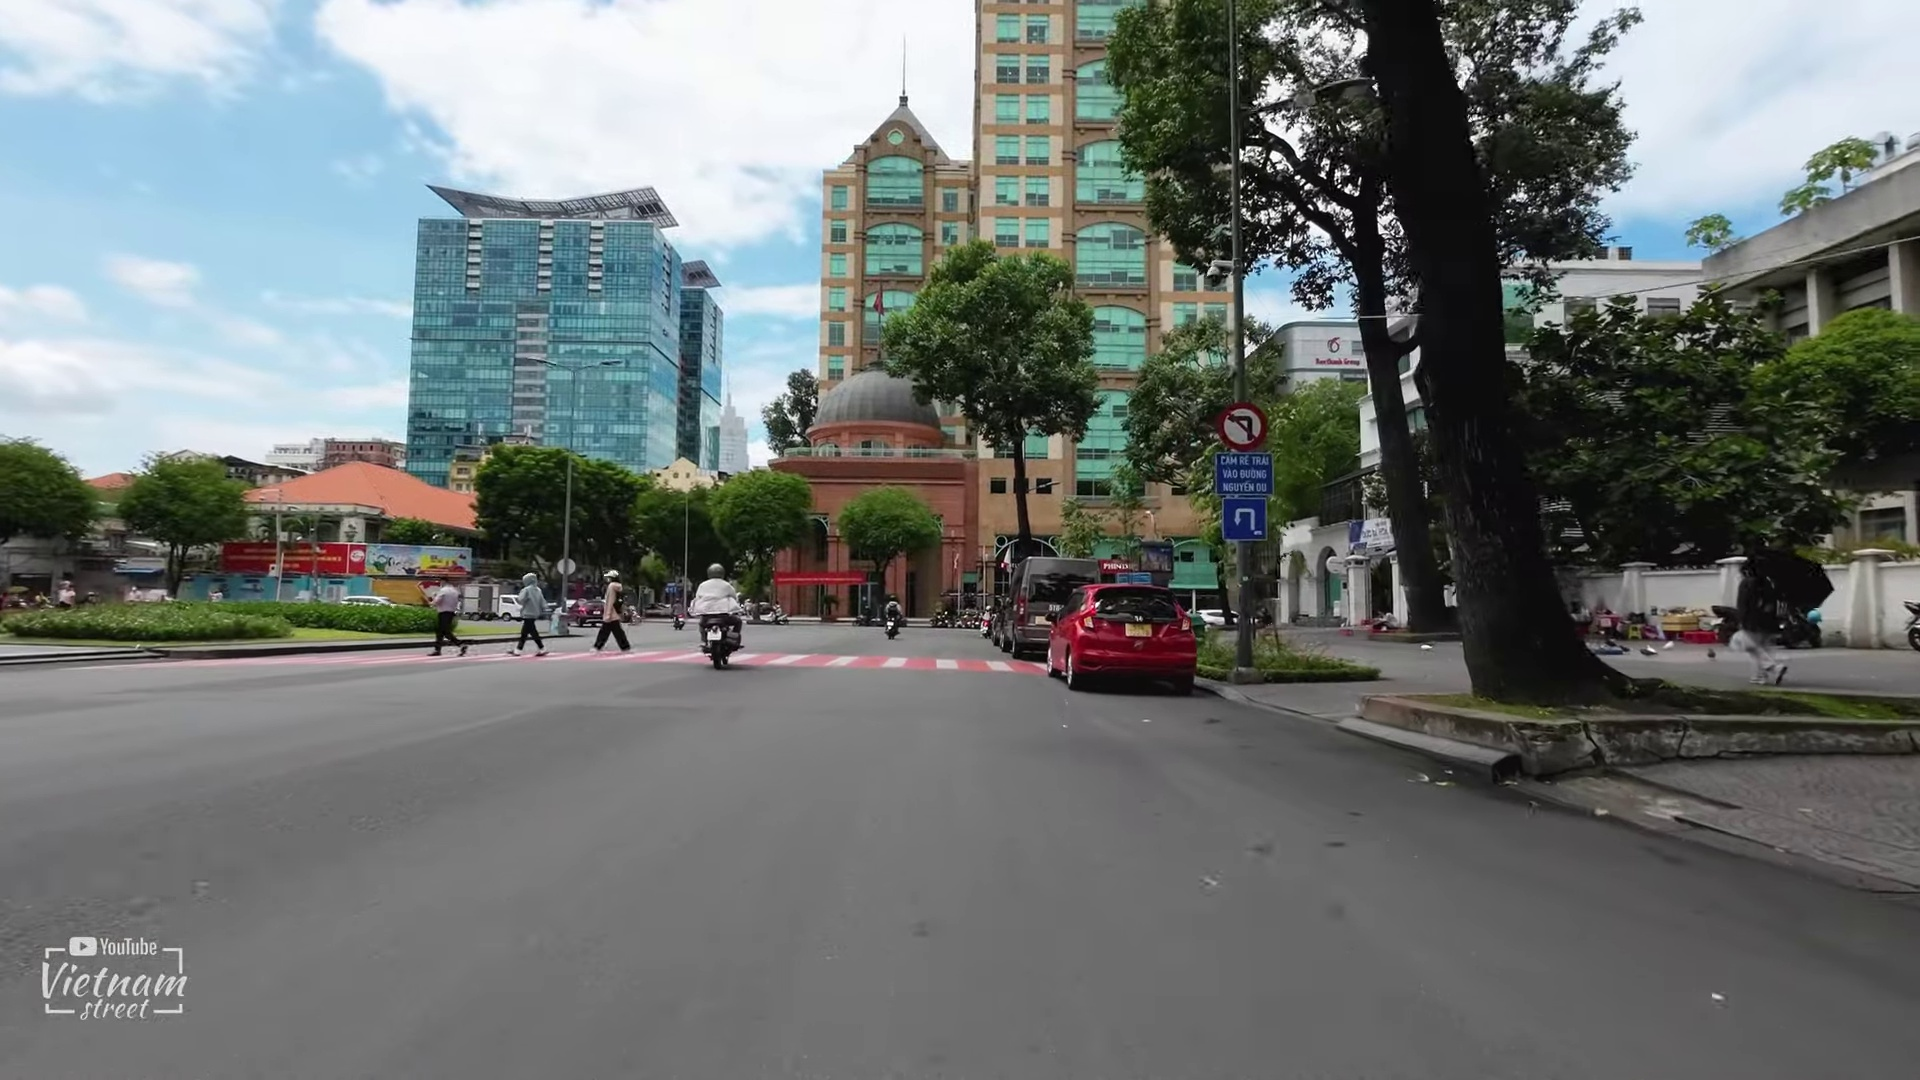cam_re_trai: (1213, 401, 1270, 451)
